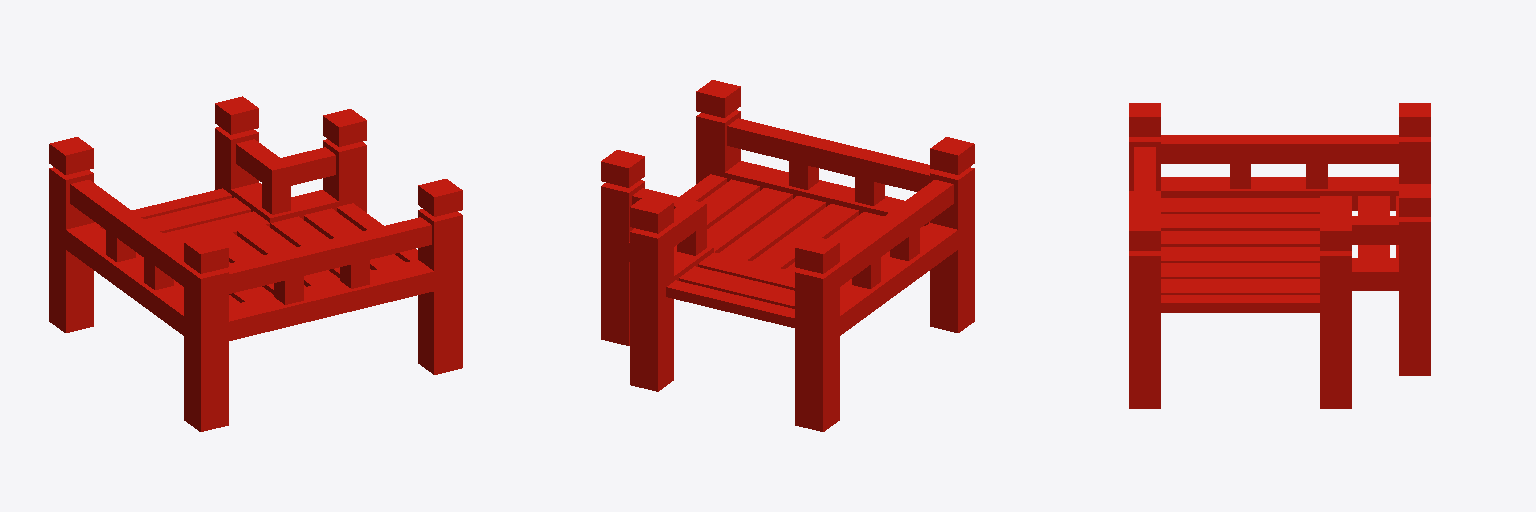
3 renders of one model, left to right at view 1: azimuth 30°, elevation 25°; view 2: azimuth 150°, elevation 25°; view 3: azimuth 270°, elevation 25°, orthographic.
Parts seen in each view (by area): view 1: cube; view 2: cube; view 3: cube.
Boxes of the visible parts, box(x1,y1,x2,y2) form: cube: box(49, 96, 462, 431); cube: box(601, 80, 974, 431); cube: box(1129, 103, 1430, 408).
Size of the model in its own units: 0.8672 by 0.5625 by 0.8672.
1 materials, 1 textured.